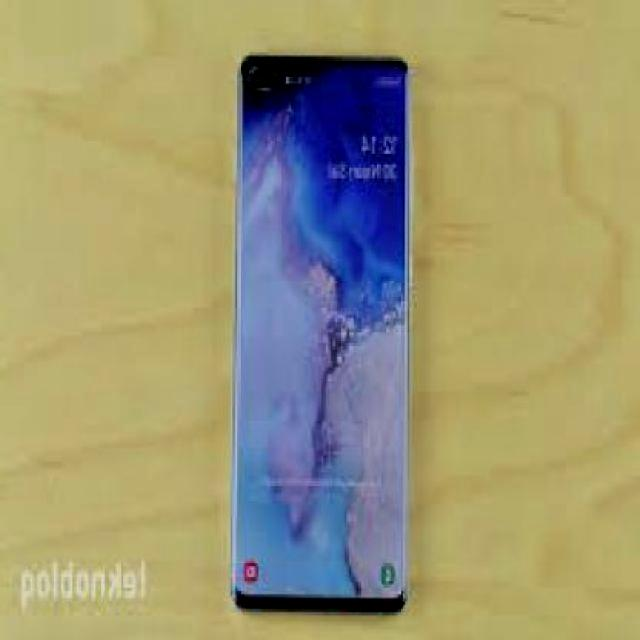phone: (228, 49, 409, 616)
